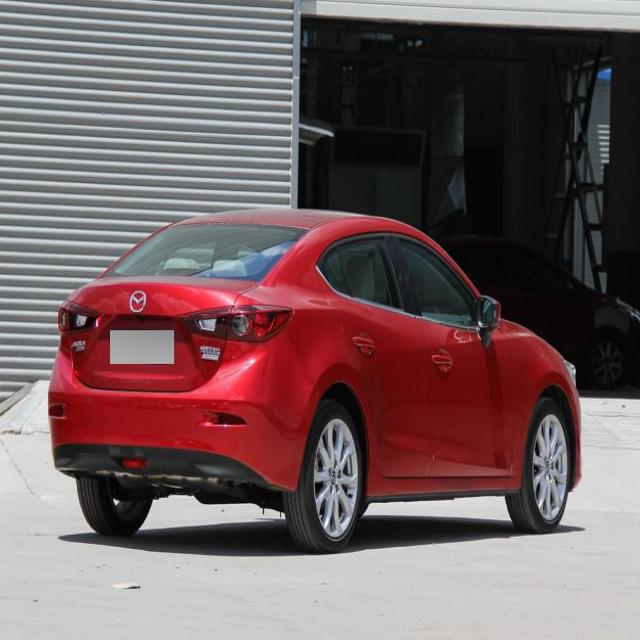back_glass: (100, 221, 312, 280)
back_left_side_light: (55, 296, 112, 338)
back_right_side_light: (175, 302, 295, 342)
door: (321, 234, 396, 486)
front_right_side_door: (389, 227, 517, 488)
front_right_side_mirror: (474, 292, 502, 342)
rear_bumper: (47, 337, 317, 492)
wheel: (286, 396, 364, 551), (506, 398, 571, 530)
